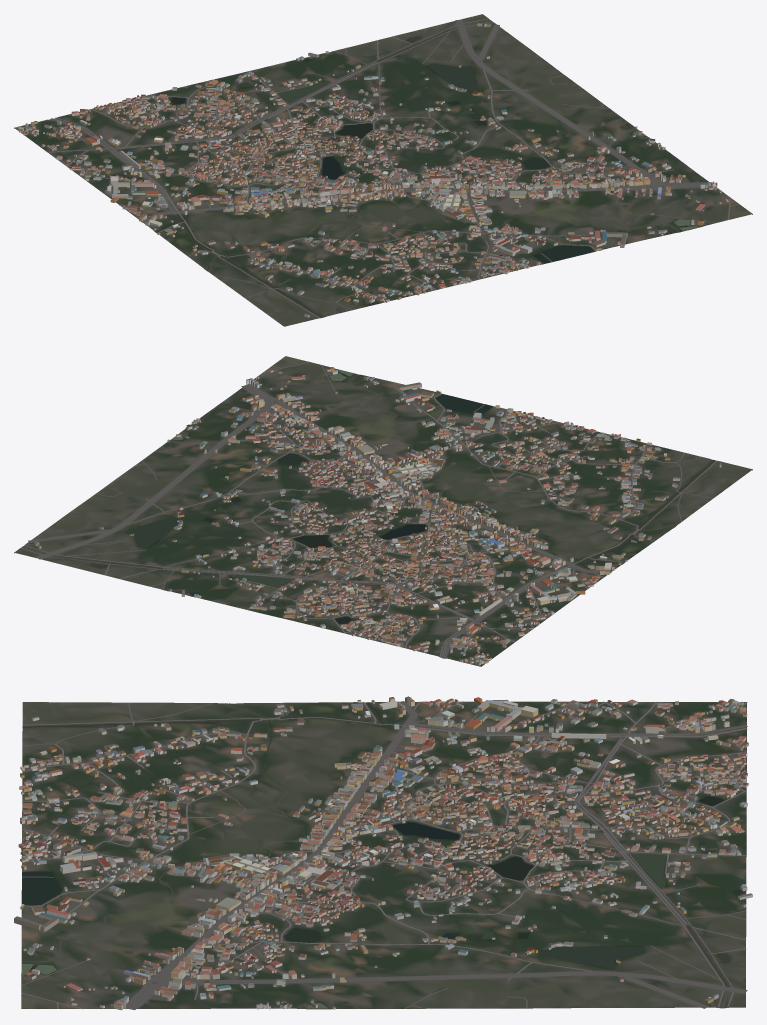
The picture shows the model from 3 angles, top to bottom: view 1: azimuth 30°, elevation 25°; view 2: azimuth 150°, elevation 25°; view 3: azimuth 270°, elevation 25°; orthographic projection. The views are drawn at different scales.
Visible parts, largest first — view 1: ground, buildings, roads, water; view 2: ground, buildings, roads, water; view 3: ground, buildings, roads, water.
Boxes of the visible parts, x1,y1,x2,y2 form: ground: (14, 14, 752, 326); buildings: (18, 23, 728, 317); roads: (14, 19, 739, 318); water: (54, 20, 700, 317); ground: (14, 356, 752, 666); buildings: (34, 367, 721, 664); roads: (21, 361, 717, 666); water: (22, 369, 715, 657); ground: (21, 701, 746, 1009); buildings: (14, 696, 752, 1010); roads: (21, 701, 747, 1010); water: (22, 702, 746, 1008).
Size of the model in its own units: 1415 by 23.66 by 1430.
